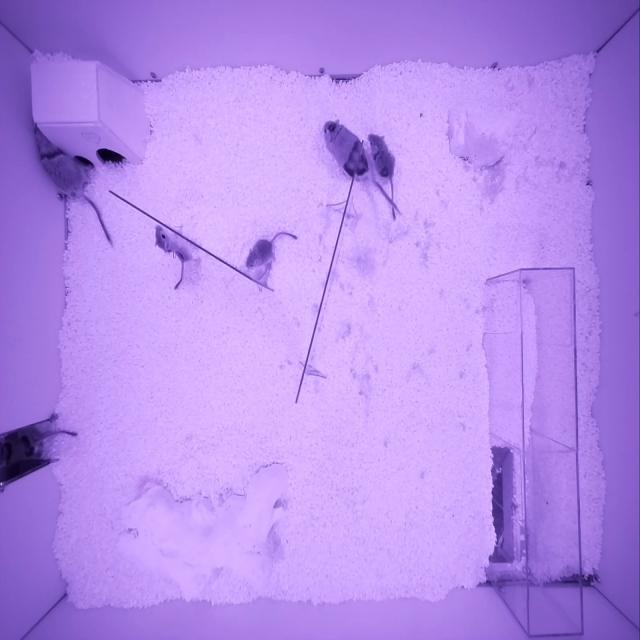adult_back: (323, 119, 375, 180)
adult_front: (34, 124, 91, 198)
pup_fluffy: (244, 238, 276, 270)
pup_h_stripe: (0, 432, 38, 472)
pup_spotted: (368, 132, 396, 182)
pup_v_stripe: (154, 225, 193, 263)
